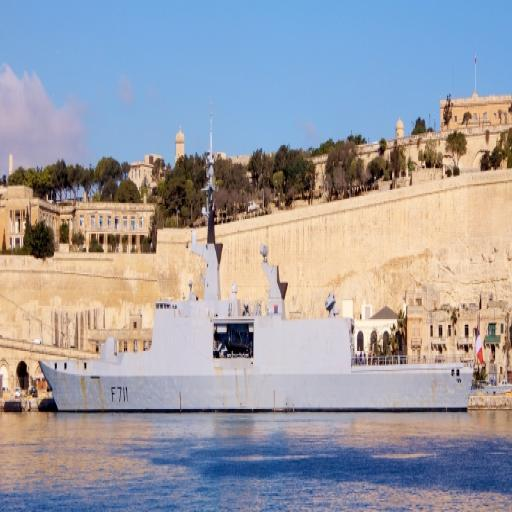Fragata: (38, 122, 479, 422)
